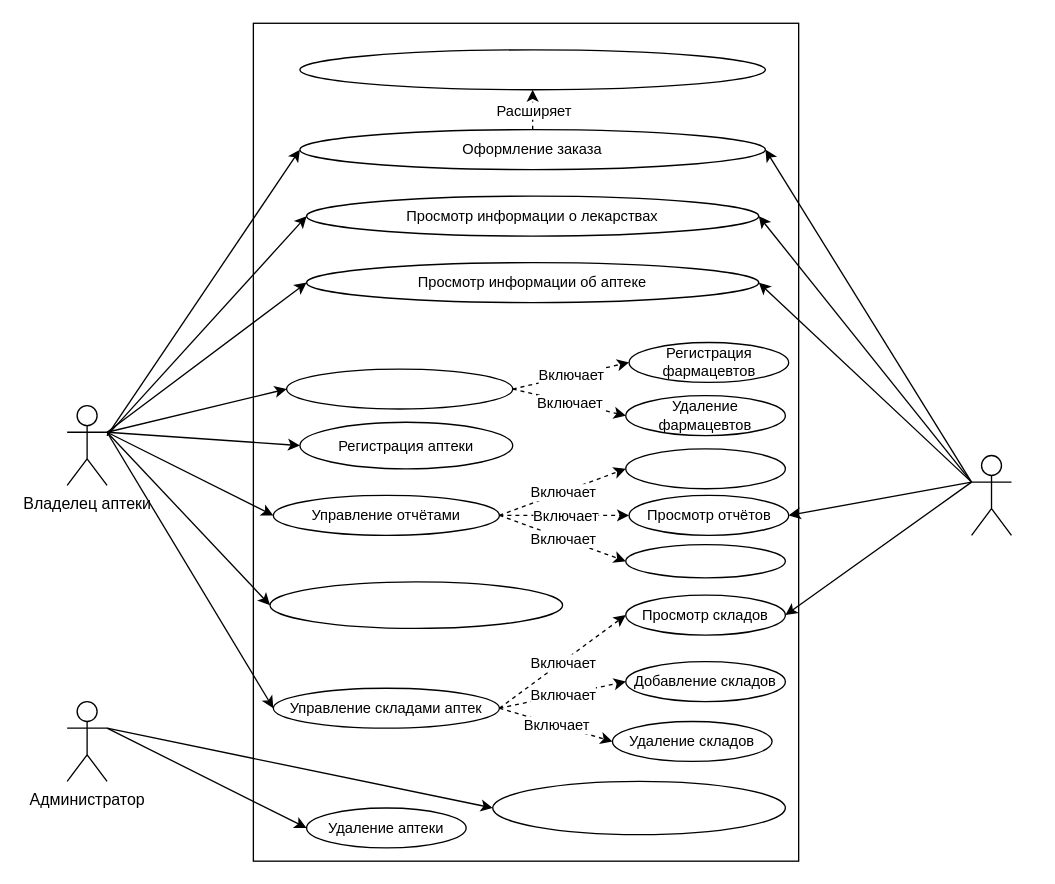
Some shapes in this 1055 by 884 pixel diagram are drawn without their labels. The shapes that lost their labels are listed below. From the top down, each one's centre as x and y in pixels, then its label:
[532,69]: Просмотр истории заказов
[399,388]: Управление фармацевтами
[704,468]: Генерация отчётов
[990,494]: Фармацевт
[704,560]: Удаление отчётов
[416,604]: Отправка запросов поставщикам на получение лекарств
[638,807]: Создание резервной копии базы данных
